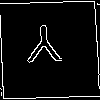Y: (24, 25, 63, 72)
